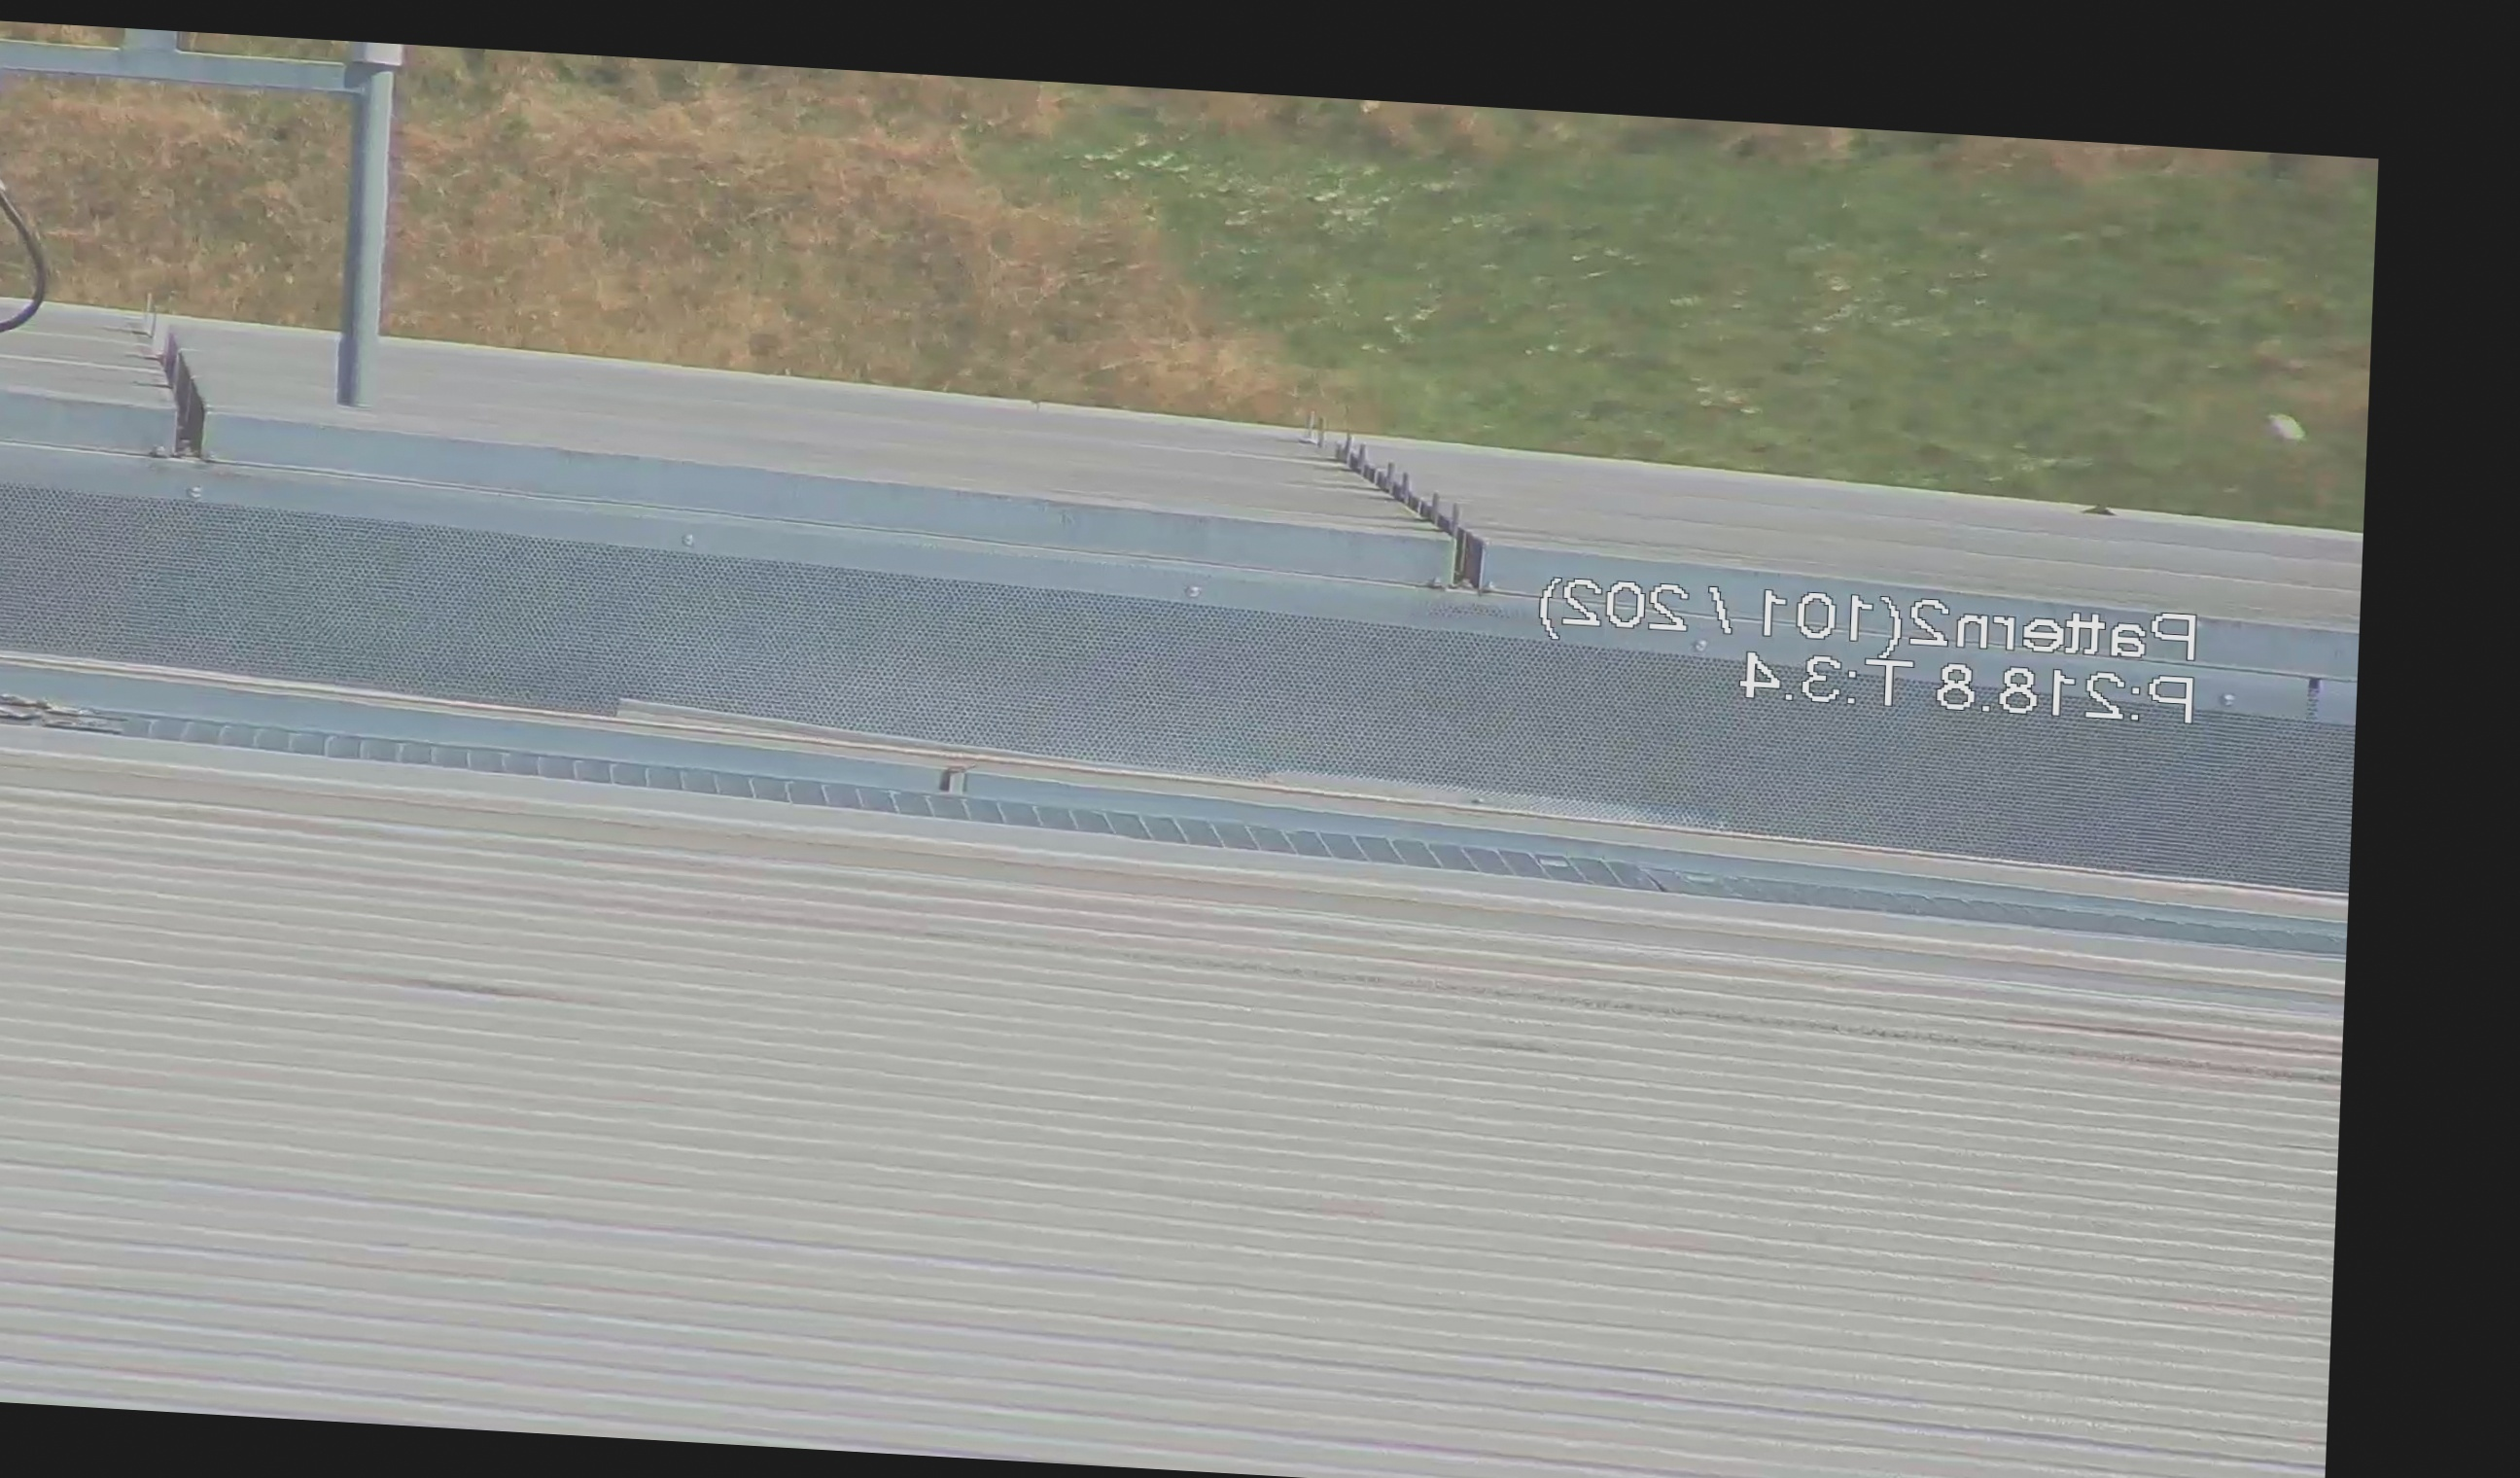Other: (116, 311, 220, 461)
